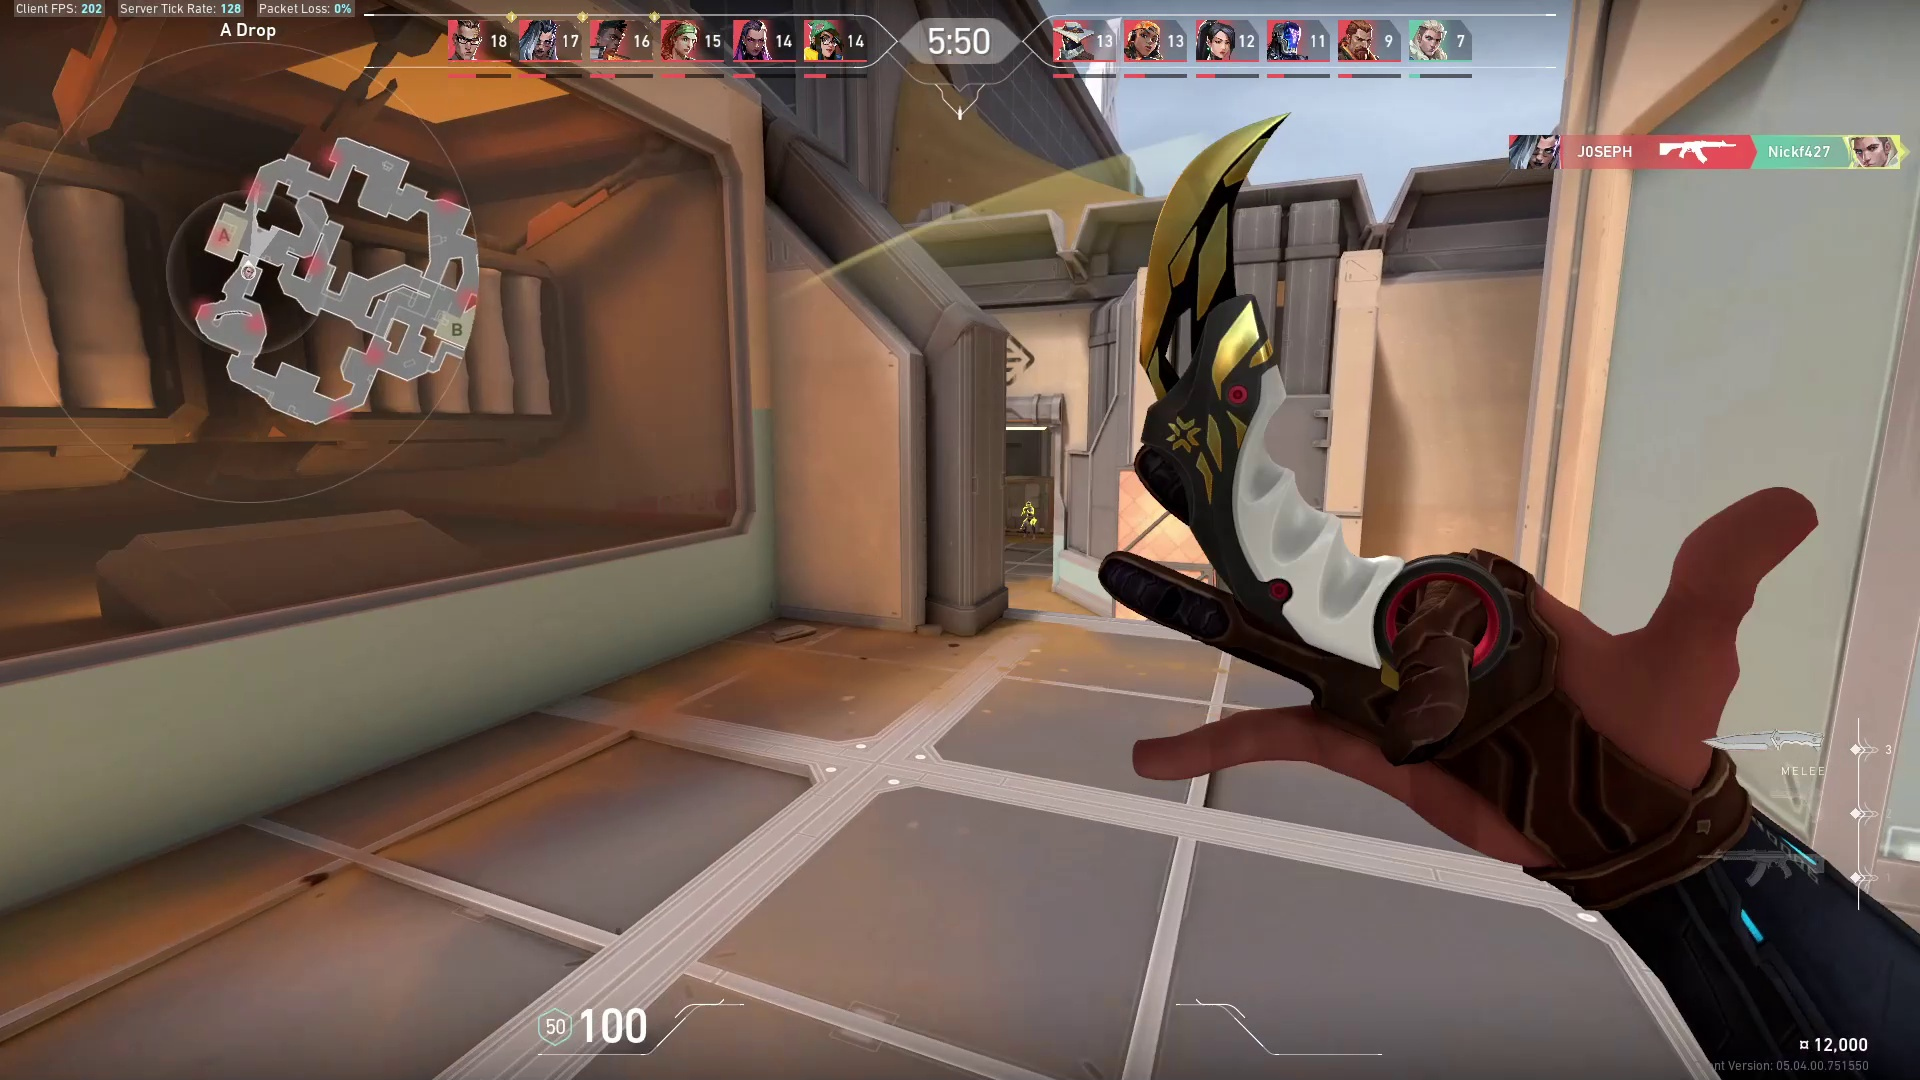dog: (1022, 495, 1035, 510)
enemy_body: (1011, 509, 1044, 542)
